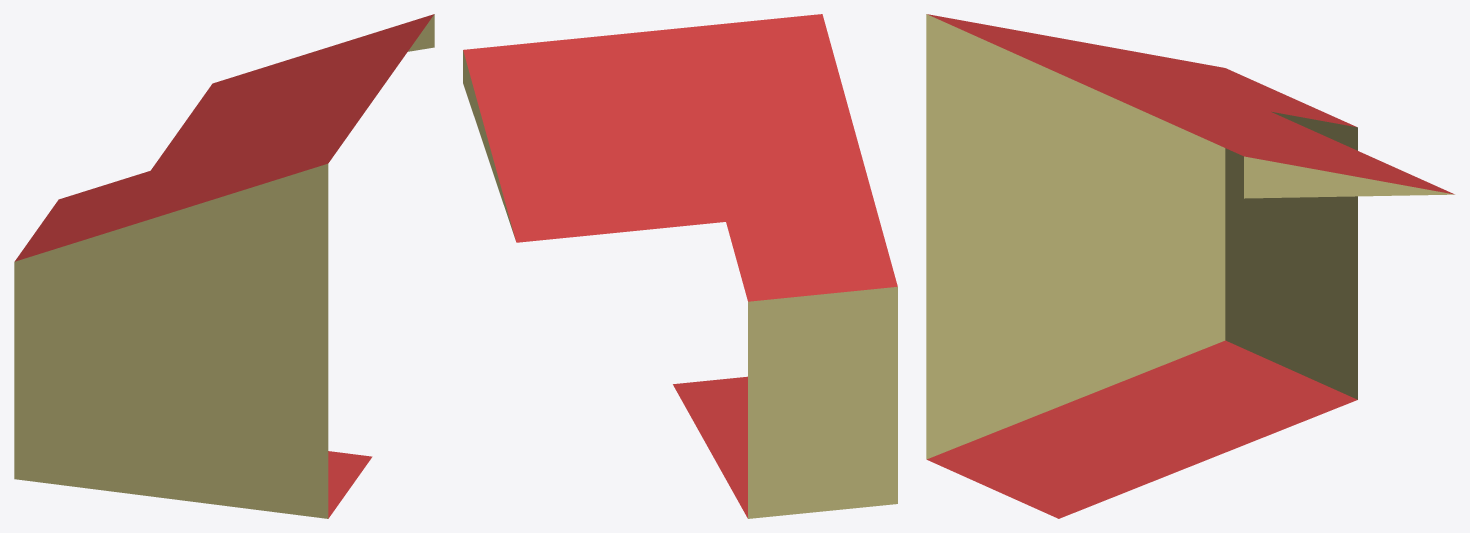
The picture shows the model from 3 angles, left to right: view 1: azimuth 30°, elevation 25°; view 2: azimuth 150°, elevation 25°; view 3: azimuth 270°, elevation 25°; orthographic projection. The views are drawn at different scales.
Size of the model in its own units: 11.62 by 9.94 by 9.23.
